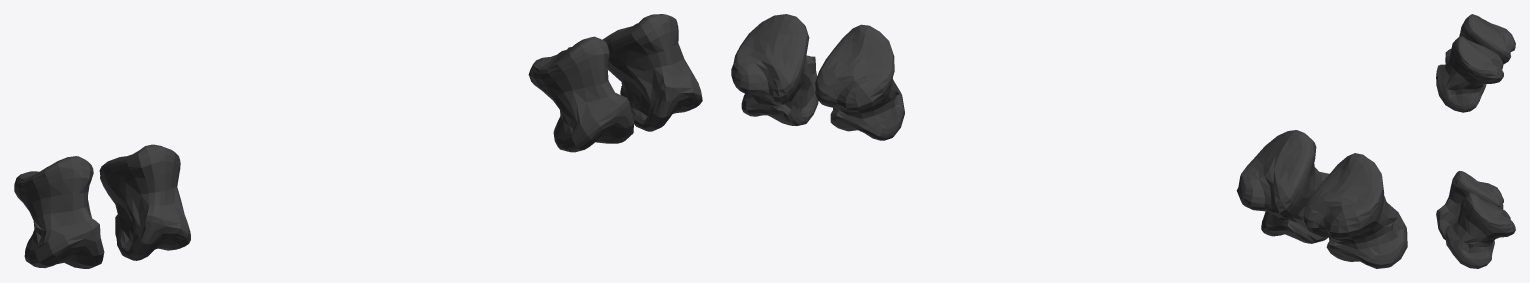
The picture shows the model from 3 angles, left to right: view 1: azimuth 30°, elevation 25°; view 2: azimuth 150°, elevation 25°; view 3: azimuth 270°, elevation 25°; orthographic projection. The views are drawn at different scales.
Visible parts, largest first — view 1: b_FL_P2_L_LO; view 2: b_FL_P2_L_LO; view 3: b_FL_P2_L_LO.
Boxes of the visible parts, x1,y1,x2,y2 form: b_FL_P2_L_LO: (14, 14, 702, 268); b_FL_P2_L_LO: (731, 14, 1407, 268); b_FL_P2_L_LO: (1436, 14, 1515, 268).
Bounding box in the file's own units: 0.00358 × 0.00056 × 0.000592.
Materials: 1 (1 with a texture image).
